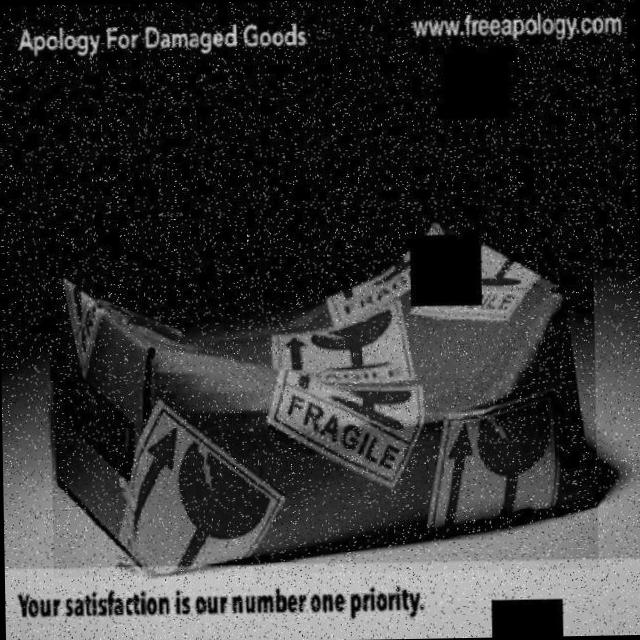box: (47, 214, 598, 577)
